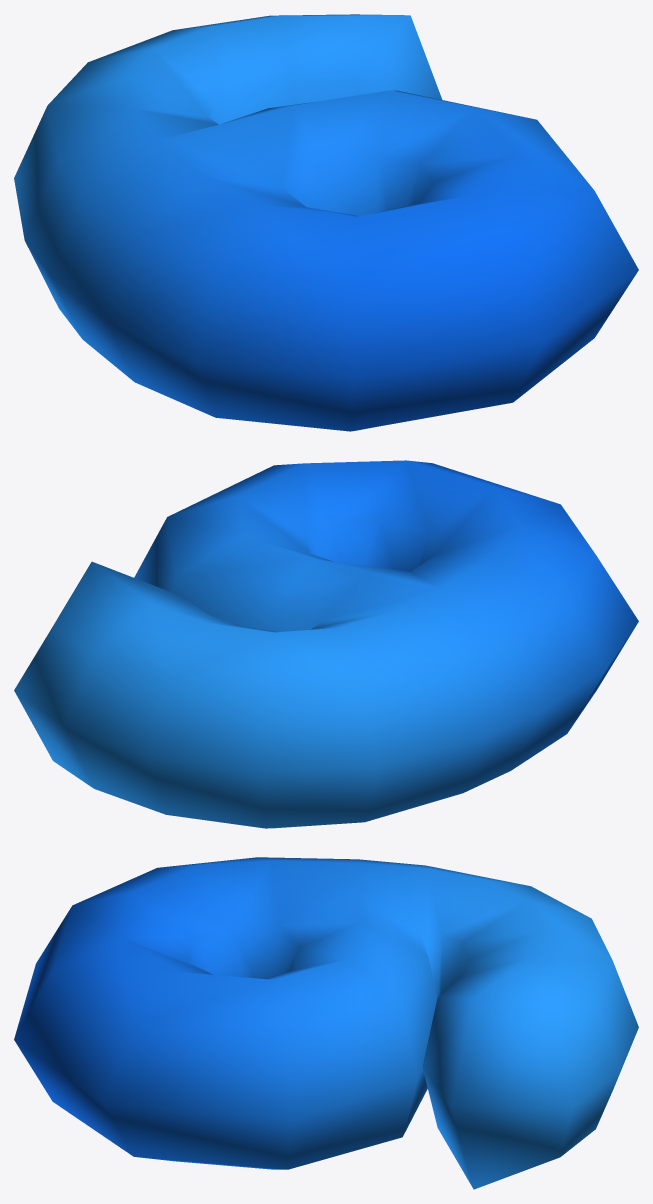
Rendered from CartoonFont_6.FBX.
3 views of the same model, one above another, from view 1: azimuth 30°, elevation 25°; view 2: azimuth 150°, elevation 25°; view 3: azimuth 270°, elevation 25° (orthographic). The views are drawn at different scales.
Visible parts, largest first — view 1: 6; view 2: 6; view 3: 6.
Boxes of the visible parts, <box> form: 6: <box>14,14,638,431</box>; 6: <box>14,460,638,828</box>; 6: <box>14,857,638,1189</box>.
Size of the model in its own units: 23.82 by 9.96 by 29.73.
1 material, 1 textured.
